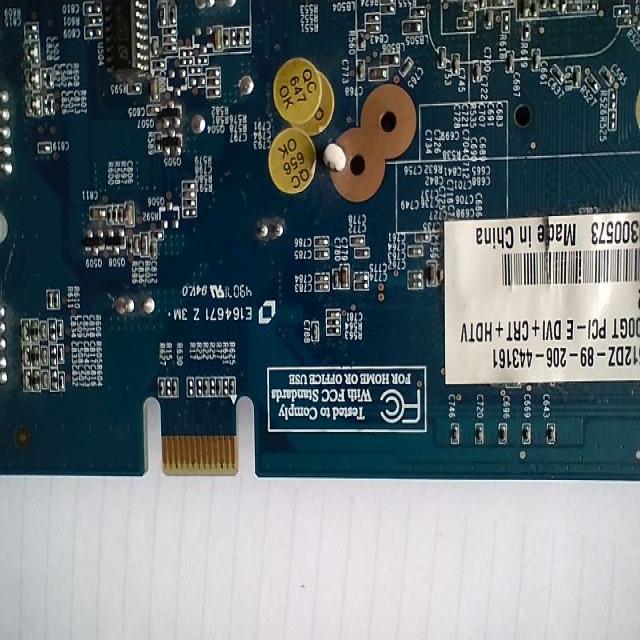capacitor: (539, 416, 566, 458), (300, 309, 328, 348), (445, 411, 465, 452), (448, 414, 466, 448), (472, 422, 491, 453)
resistor: (324, 322, 345, 334)
